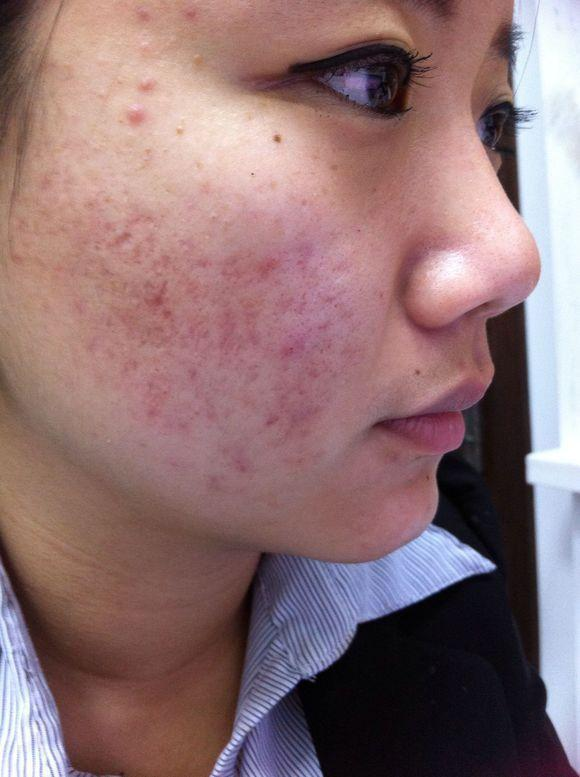fore: (145, 278, 183, 333), (171, 1, 218, 39), (290, 397, 330, 435), (114, 94, 157, 128), (102, 228, 137, 263), (137, 371, 175, 402), (125, 65, 171, 90), (226, 437, 252, 481), (259, 249, 290, 280), (309, 314, 340, 345), (302, 361, 331, 394), (245, 325, 273, 359), (221, 254, 247, 290), (209, 295, 242, 323), (273, 328, 295, 364), (137, 406, 175, 426), (259, 406, 281, 440), (212, 330, 235, 361), (119, 299, 138, 328)
